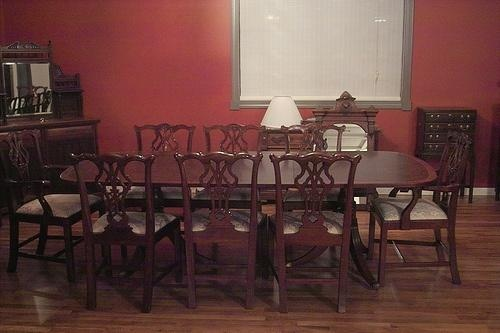chair: (71, 153, 181, 312), (367, 132, 478, 287), (2, 132, 111, 284), (270, 154, 363, 315), (177, 155, 262, 308), (135, 123, 198, 154), (202, 125, 267, 152), (280, 125, 346, 151)
diningtable: (61, 154, 439, 291)
